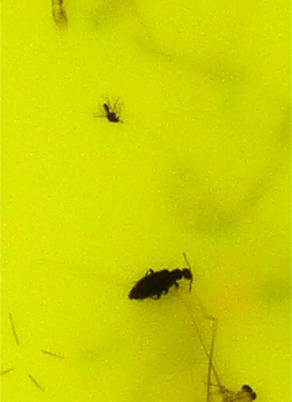Brachycera: (100, 100, 123, 126)
Coleoptera: (126, 262, 192, 302)
